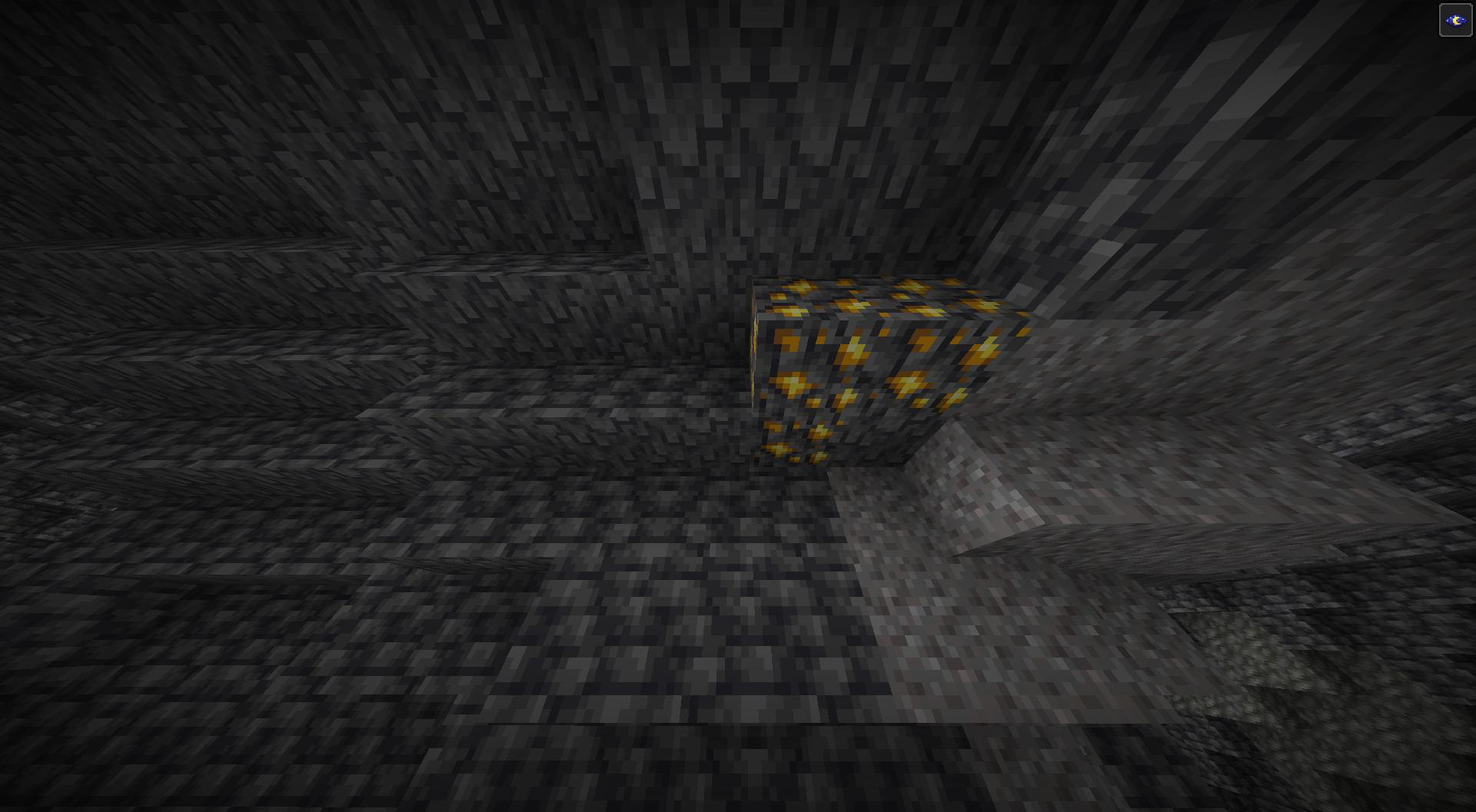gold ore: (874, 329, 1017, 407), (763, 324, 873, 399), (881, 270, 1014, 319), (754, 274, 881, 320), (758, 413, 841, 469)
